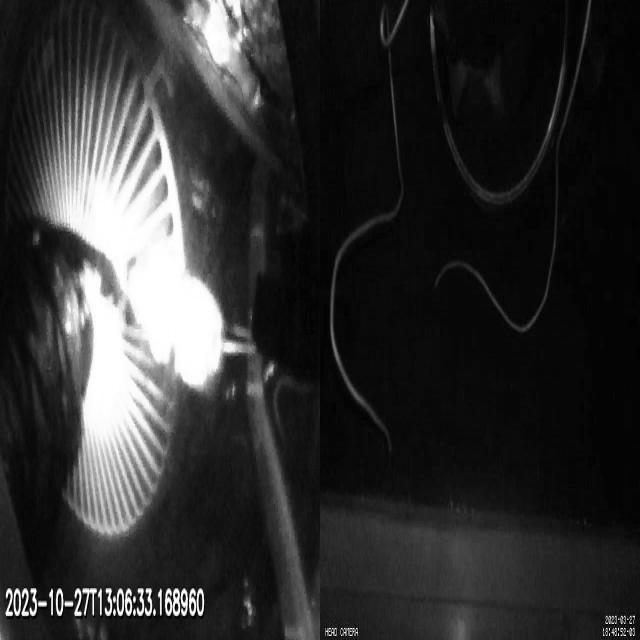head: (132, 246, 224, 393)
